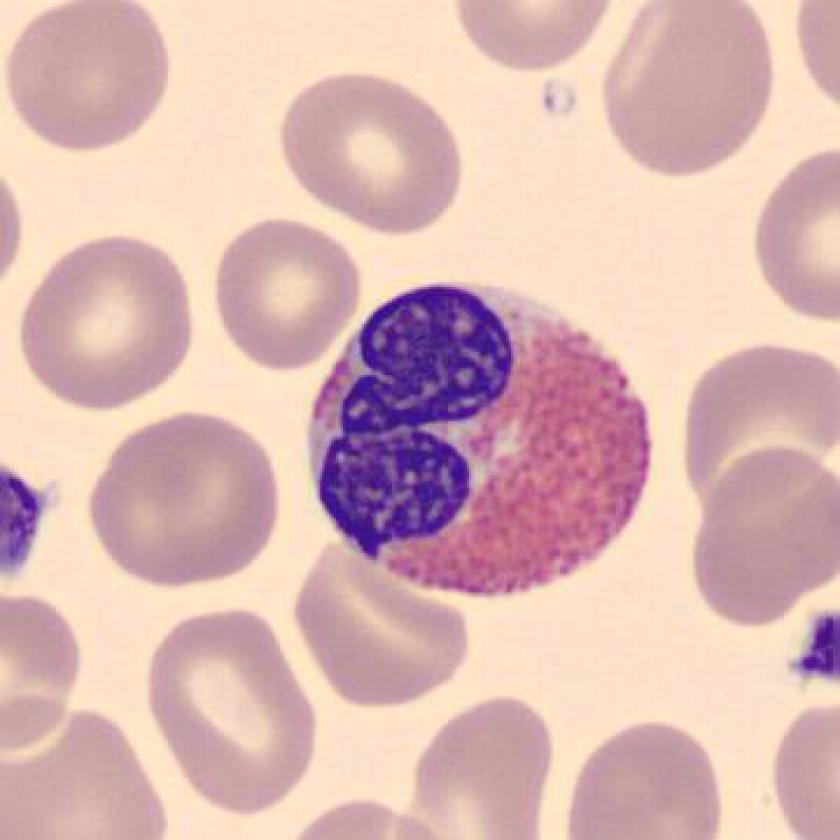eosinophil: (297, 272, 664, 607)
